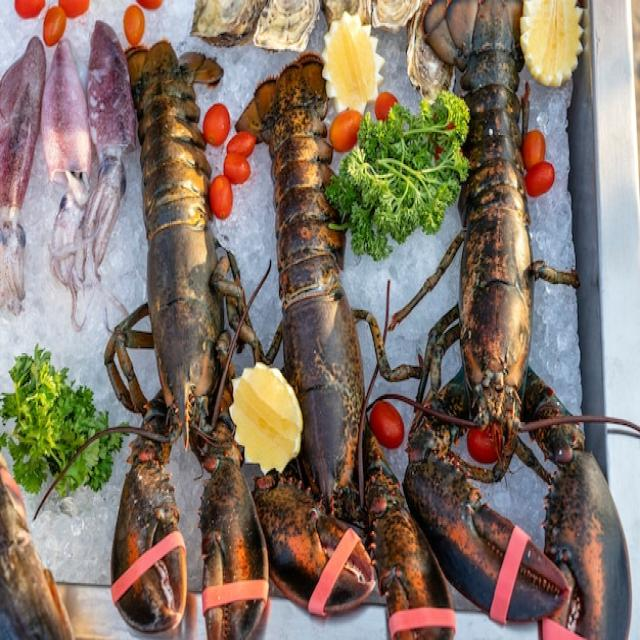Lobster: (355, 0, 631, 638), (239, 53, 455, 638), (105, 41, 268, 637)
Tomato: (370, 402, 404, 448), (329, 111, 362, 152), (202, 103, 230, 145), (468, 428, 498, 463), (210, 175, 232, 220), (522, 129, 546, 170), (526, 161, 554, 196), (42, 6, 66, 46), (124, 4, 145, 45), (224, 154, 250, 184), (226, 131, 256, 157)
lemon: (230, 362, 302, 473), (322, 11, 385, 113), (520, 0, 582, 85)
